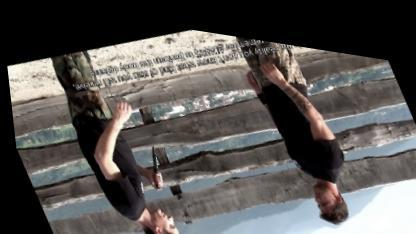knife: (132, 136, 171, 190)
